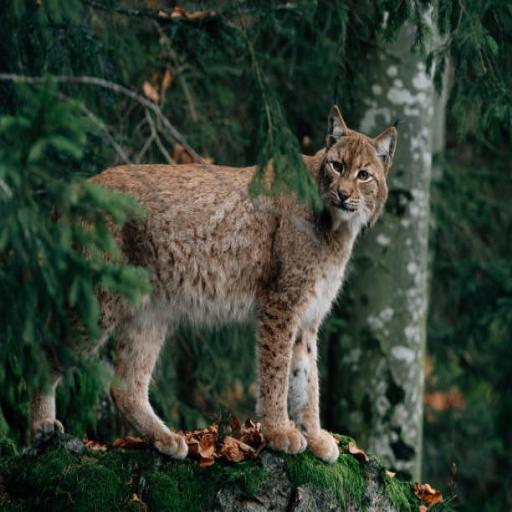lynx: (90, 106, 396, 462)
